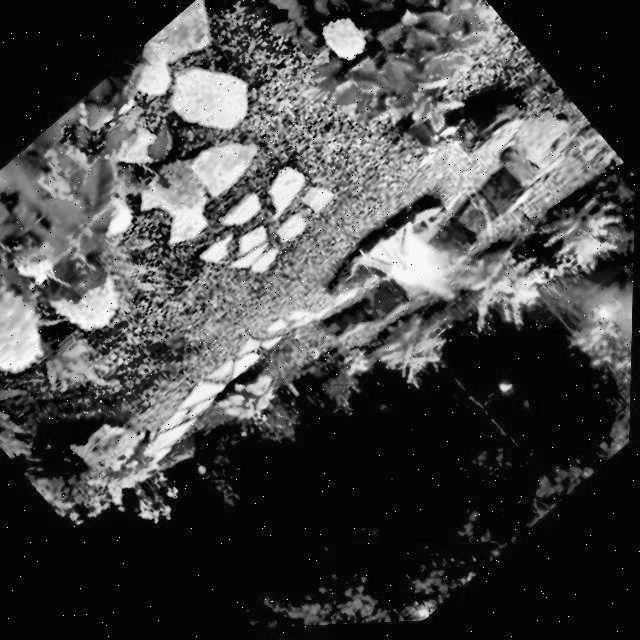Fire: (365, 219, 466, 323)
